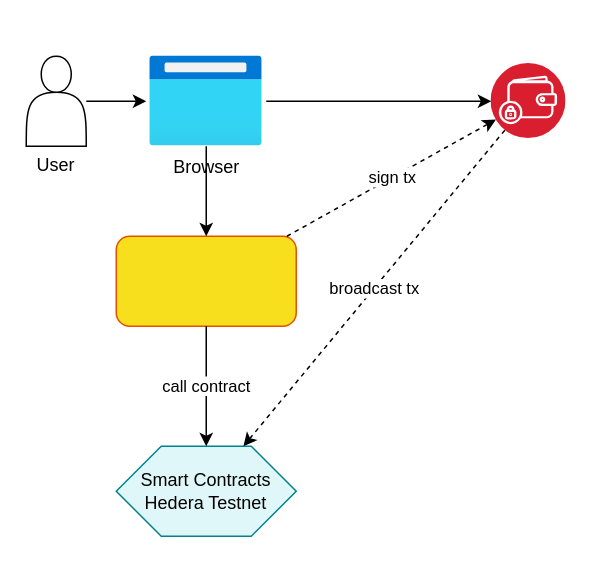
This 596x563 diagram has some shape labels left out. The shapes that lost their labels are listed below. From the top down, each one's box as (x1, y1, x2, y2) in pixels, then its label:
(490, 63, 566, 138): Metamask
(115, 235, 296, 326): Front-End (Angular)
